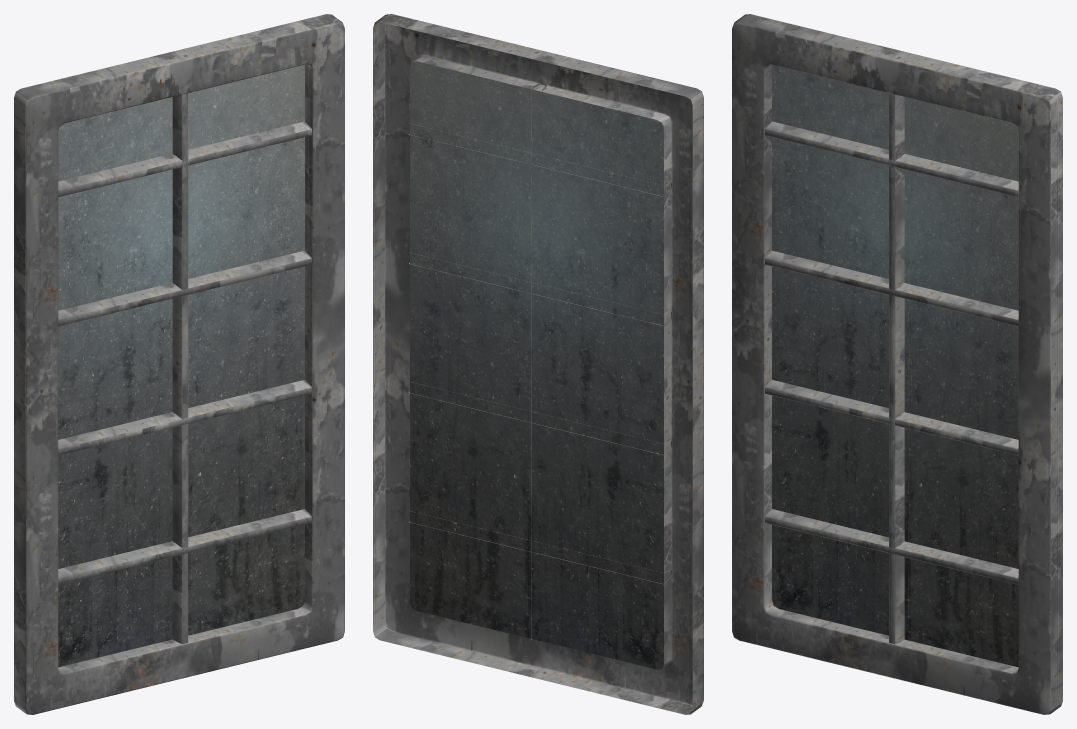
The model's file is _Window_3.FBX.
3 renders of one model, left to right at view 1: azimuth 30°, elevation 25°; view 2: azimuth 150°, elevation 25°; view 3: azimuth 330°, elevation 25°, orthographic.
Visible parts, largest first — view 1: _Window_3; view 2: _Window_3; view 3: _Window_3.
Part boxes in pixels (bbox=[...]): _Window_3: bbox=[14, 14, 344, 714]; _Window_3: bbox=[373, 14, 703, 714]; _Window_3: bbox=[732, 14, 1062, 714].
Bounding box in the file's own units: 235 × 435 × 15.2.
2 materials, 2 textured.
